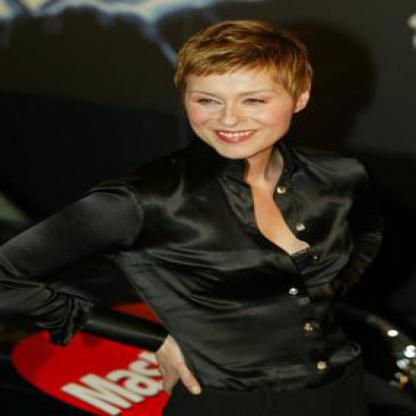face: (183, 32, 300, 161)
